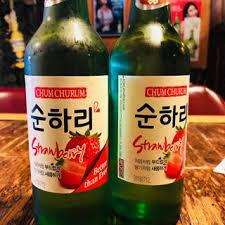soju: (22, 1, 193, 225)
